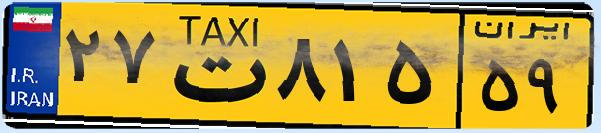1: (330, 28, 385, 110)
2: (57, 26, 110, 100)
5: (385, 28, 445, 110), (475, 38, 525, 113)
7: (110, 28, 158, 98)
8: (270, 28, 330, 110)
9: (525, 38, 570, 115)
ت: (158, 12, 270, 120)
